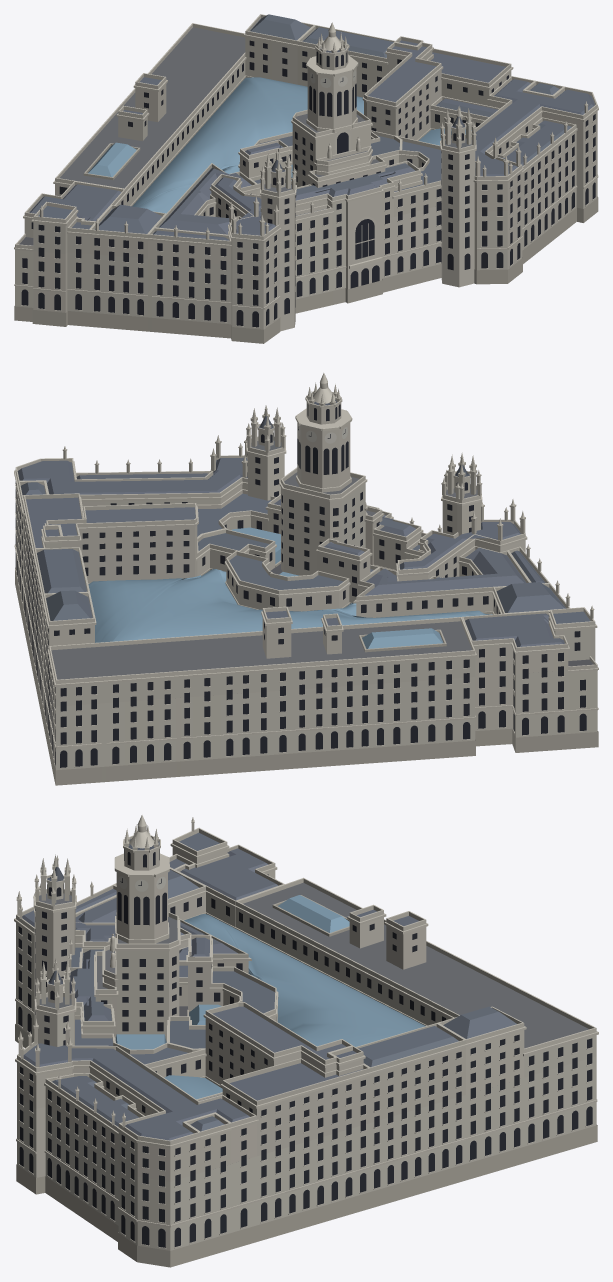
3 views of the same model, one above another, from view 1: azimuth 30°, elevation 25°; view 2: azimuth 150°, elevation 25°; view 3: azimuth 270°, elevation 25° (orthographic). The views are drawn at different scales.
Parts seen in each view (by area): view 1: palacio, roofs, windows, glass; view 2: palacio, roofs, windows, glass; view 3: palacio, roofs, windows, glass.
Boxes of the visible parts, left/top/right/bottom form: palacio: left=14, top=14, right=598, bottom=343; roofs: left=29, top=14, right=594, bottom=240; windows: left=21, top=40, right=595, bottom=327; glass: left=88, top=77, right=471, bottom=213; palacio: left=14, top=373, right=598, bottom=785; roofs: left=17, top=441, right=590, bottom=679; windows: left=15, top=404, right=586, bottom=767; glass: left=88, top=527, right=492, bottom=648; palacio: left=14, top=815, right=598, bottom=1267; roofs: left=22, top=832, right=588, bottom=1140; windows: left=18, top=849, right=592, bottom=1247; glass: left=115, top=895, right=425, bottom=1099.
Bounding box in the file's own units: 169 × 73 × 131.
